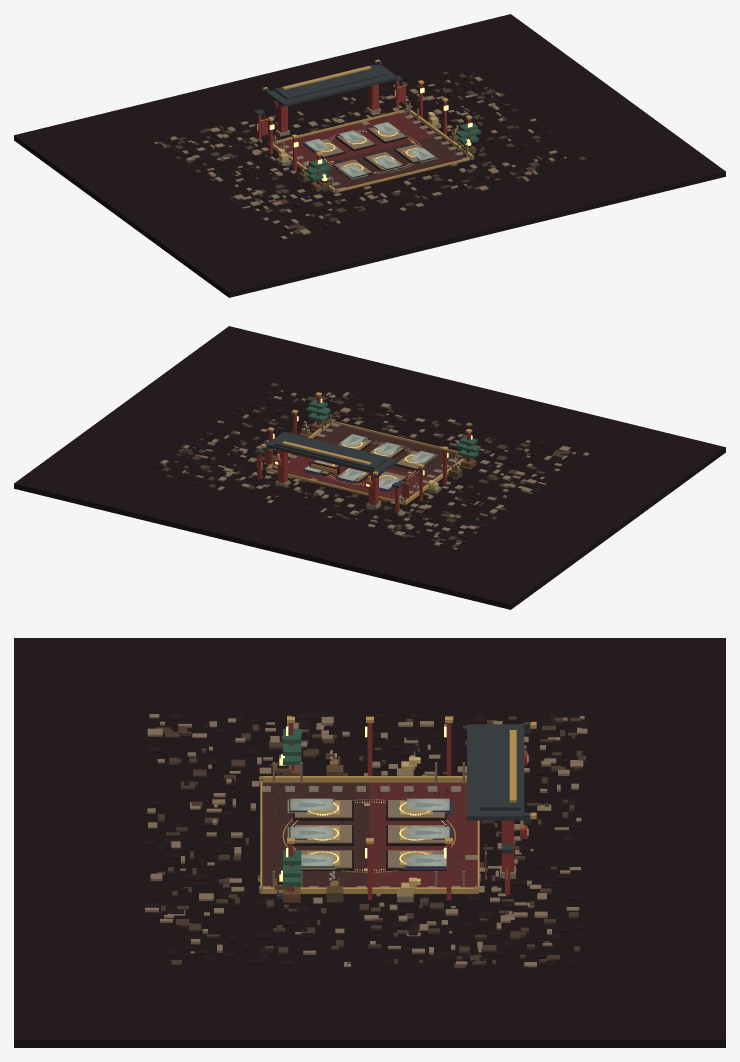
Rendered from dynasty.glb.
3 renders of one model, top to bottom at view 1: azimuth 30°, elevation 25°; view 2: azimuth 150°, elevation 25°; view 3: azimuth 270°, elevation 25°, orthographic. The views are drawn at different scales.
Visible parts, largest first — view 1: Bedrock, Outer_Rubble, Palace_Roof, Enemy_Floor, Friendly_Floor, Six_Grounded_Foundations, Arena_Curb, Potted_Pines, Garden_Columns, Palace_Gate; view 2: Bedrock, Outer_Rubble, Palace_Roof, Friendly_Floor, Enemy_Floor, Arena_Curb, Potted_Pines, Six_Grounded_Foundations, Palace_Gate, Garden_Columns; view 3: Bedrock, Outer_Rubble, Enemy_Floor, Friendly_Floor, Palace_Roof, Six_Grounded_Foundations, Arena_Curb, Garden_Columns, Potted_Pines, Stone_Lions, Courtyard_Path, Incense_Burners.
Boxes of the visible parts, <box> form: Bedrock: <box>14,14,725,297</box>; Outer_Rubble: <box>154,71,586,239</box>; Palace_Roof: <box>262,59,397,106</box>; Enemy_Floor: <box>276,112,436,167</box>; Friendly_Floor: <box>307,136,468,192</box>; Six_Grounded_Foundations: <box>304,127,422,179</box>; Arena_Curb: <box>268,109,472,192</box>; Potted_Pines: <box>306,122,481,191</box>; Garden_Columns: <box>267,80,472,184</box>; Palace_Gate: <box>275,84,381,136</box>; Bedrock: <box>14,326,725,609</box>; Outer_Rubble: <box>154,383,589,549</box>; Palace_Roof: <box>260,432,397,477</box>; Friendly_Floor: <box>315,425,461,479</box>; Enemy_Floor: <box>273,454,432,504</box>; Arena_Curb: <box>266,420,463,504</box>; Potted_Pines: <box>306,400,481,469</box>; Six_Grounded_Foundations: <box>320,439,435,491</box>; Palace_Gate: <box>275,449,381,509</box>; Garden_Columns: <box>267,392,472,501</box>; Bedrock: <box>14,638,725,1047</box>; Outer_Rubble: <box>145,712,587,969</box>; Enemy_Floor: <box>370,782,477,887</box>; Friendly_Floor: <box>262,782,369,887</box>; Palace_Roof: <box>467,722,536,824</box>; Six_Grounded_Foundations: <box>293,800,446,870</box>; Arena_Curb: <box>260,776,479,893</box>; Garden_Columns: <box>287,716,452,899</box>; Potted_Pines: <box>282,729,301,902</box>; Stone_Lions: <box>397,756,420,902</box>; Courtyard_Path: <box>262,786,484,892</box>; Incense_Burners: <box>326,756,343,902</box>.
Bounding box in the file's own units: 48 × 4.59 × 36.
35 materials, 1 textured.
